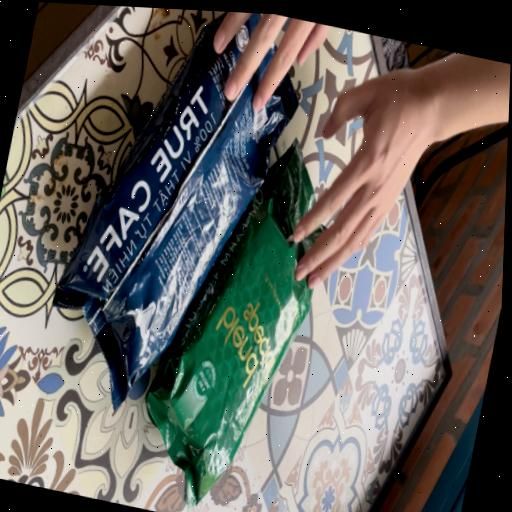cafe_hat: (52, 13, 296, 408)
cafe_xay: (145, 141, 313, 507)
